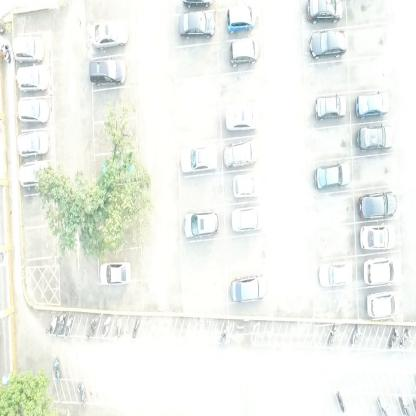car: (308, 29, 348, 60), (178, 9, 215, 42), (91, 18, 129, 50), (313, 160, 351, 191), (363, 255, 400, 286), (230, 272, 267, 303), (358, 190, 397, 219), (366, 288, 402, 319), (180, 144, 218, 173), (225, 101, 260, 132), (354, 90, 390, 120), (230, 204, 267, 233), (356, 124, 394, 152), (223, 138, 258, 168), (182, 210, 220, 237), (89, 58, 127, 85), (304, 0, 345, 25), (224, 2, 256, 34), (359, 223, 396, 250), (318, 260, 353, 288), (14, 65, 50, 92), (229, 36, 259, 68), (314, 93, 347, 122), (16, 97, 50, 124), (17, 131, 49, 159), (12, 35, 45, 62), (17, 162, 50, 188), (99, 261, 132, 287), (233, 172, 261, 198)
